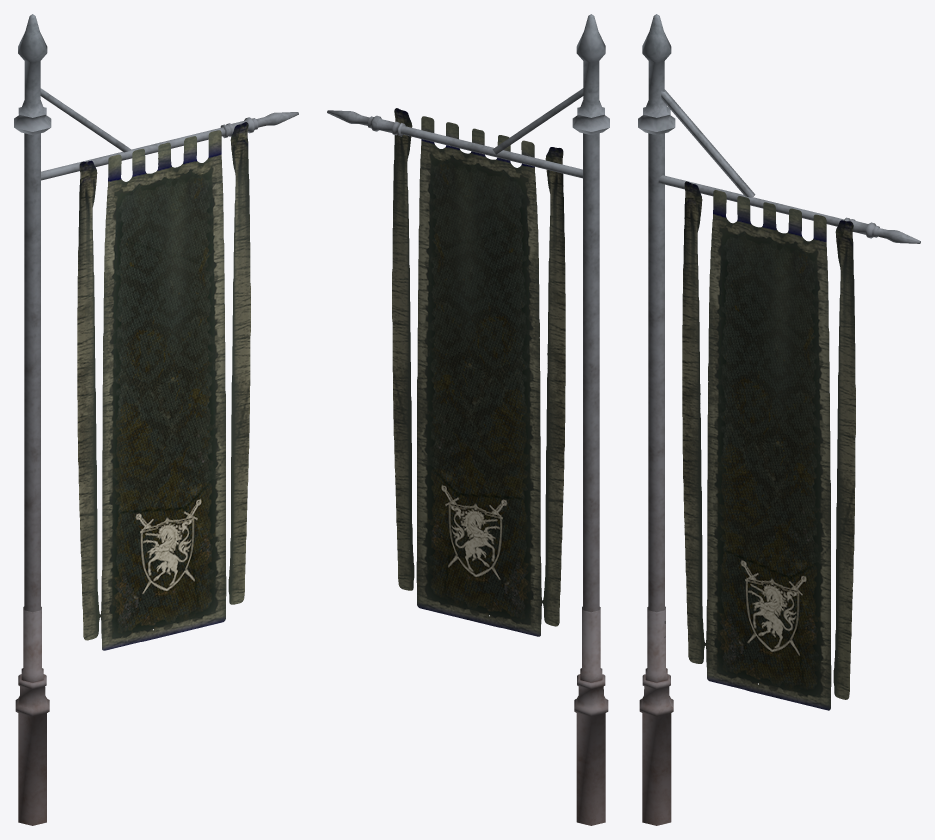
Rendered from Flag_B.fbx.
3 renders of one model, left to right at view 1: azimuth 30°, elevation 25°; view 2: azimuth 150°, elevation 25°; view 3: azimuth 330°, elevation 25°, orthographic.
Visible parts, largest first — view 1: Flag_B_low, FlagFrame001_low, FlagFrame003_low, FlagFrame002_low, FlagFrame004_low, FlagFrame006_low, FlagFrame005_low; view 2: Flag_B_low, FlagFrame001_low, FlagFrame003_low, FlagFrame002_low, FlagFrame004_low, FlagFrame005_low, FlagFrame006_low; view 3: Flag_B_low, FlagFrame001_low, FlagFrame003_low, FlagFrame002_low, FlagFrame006_low, FlagFrame004_low, FlagFrame005_low.
Part boxes in pixels (x1=…): Flag_B_low: x1=77, y1=122, x2=250, y2=650; FlagFrame001_low: x1=24, y1=133, x2=40, y2=612; FlagFrame003_low: x1=15, y1=606, x2=49, y2=825; FlagFrame002_low: x1=14, y1=14, x2=51, y2=135; FlagFrame004_low: x1=41, y1=127, x2=225, y2=180; FlagFrame006_low: x1=40, y1=88, x2=131, y2=152; FlagFrame005_low: x1=220, y1=112, x2=298, y2=138; Flag_B_low: x1=392, y1=108, x2=565, y2=636; FlagFrame001_low: x1=583, y1=133, x2=599, y2=612; FlagFrame003_low: x1=574, y1=606, x2=608, y2=825; FlagFrame002_low: x1=572, y1=14, x2=609, y2=135; FlagFrame004_low: x1=400, y1=125, x2=582, y2=178; FlagFrame005_low: x1=327, y1=110, x2=405, y2=136; FlagFrame006_low: x1=492, y1=88, x2=583, y2=154; Flag_B_low: x1=682, y1=181, x2=855, y2=710; FlagFrame001_low: x1=648, y1=133, x2=664, y2=612; FlagFrame003_low: x1=639, y1=606, x2=673, y2=825; FlagFrame002_low: x1=638, y1=14, x2=675, y2=135; FlagFrame006_low: x1=661, y1=89, x2=755, y2=197; FlagFrame004_low: x1=658, y1=175, x2=844, y2=226; FlagFrame005_low: x1=844, y1=217, x2=920, y2=243.
Bounding box in the file's own units: 1.02 × 2.77 × 0.1172.
